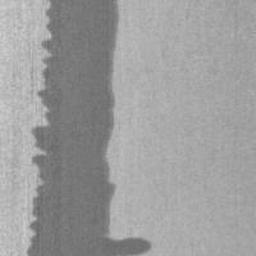Water spot: (26, 0, 154, 256)
